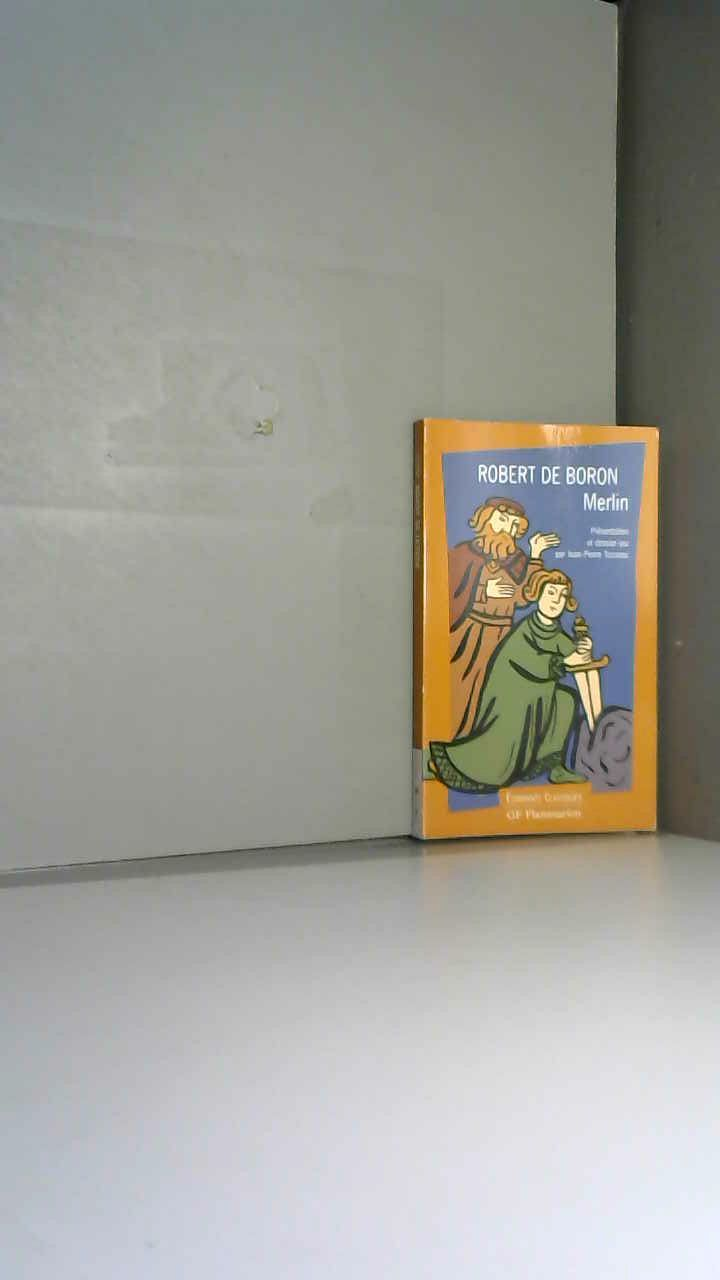book: (380, 390, 717, 877)
